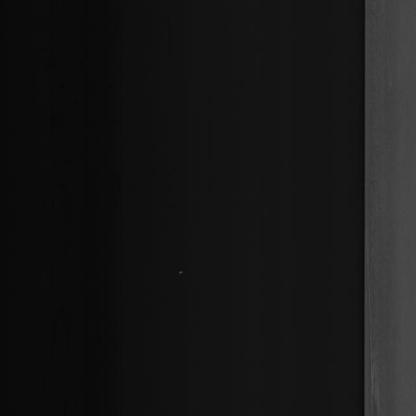silk_spot: (366, 242, 386, 402)
